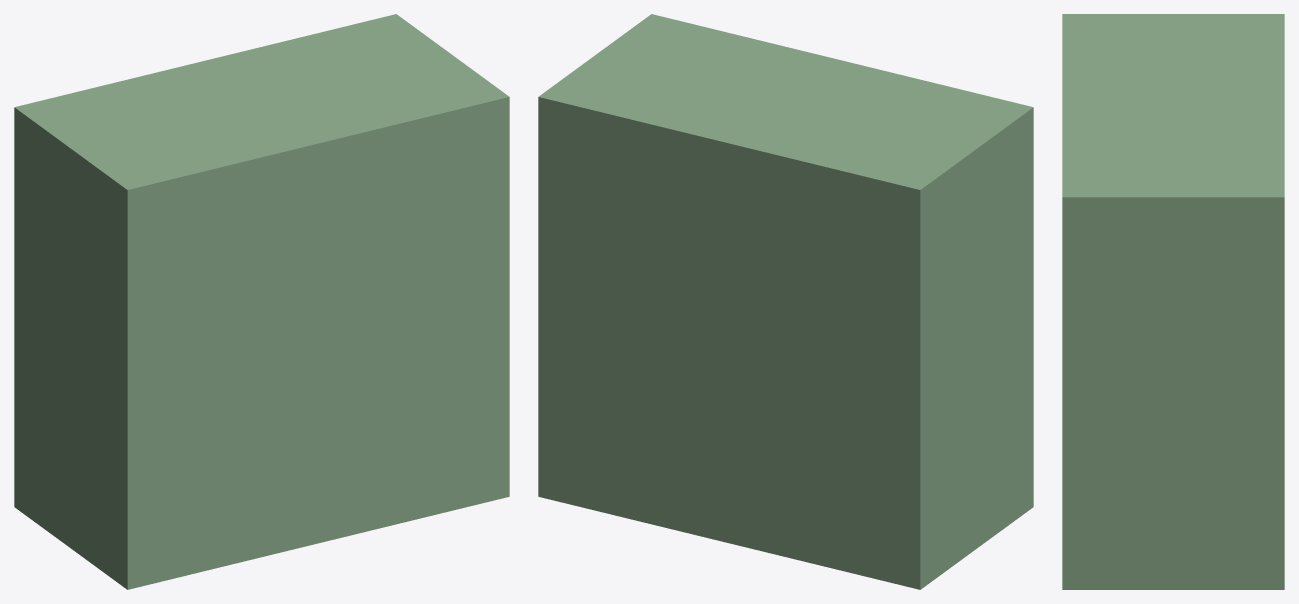
File: Bluetooth_ZigBee_Patch_2.45GHz.obj
3 renders of one model, left to right at view 1: azimuth 30°, elevation 25°; view 2: azimuth 150°, elevation 25°; view 3: azimuth 270°, elevation 25°, orthographic.
Bounding box in the file's own units: 120 × 120 × 61.6.
